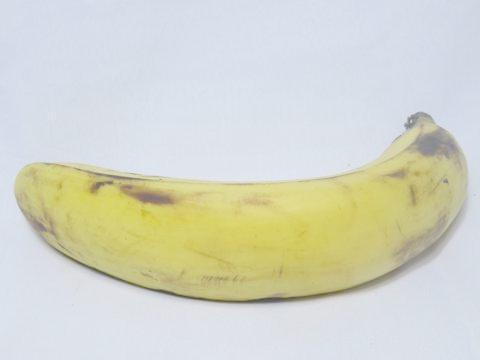ripe: (7, 116, 472, 302)
